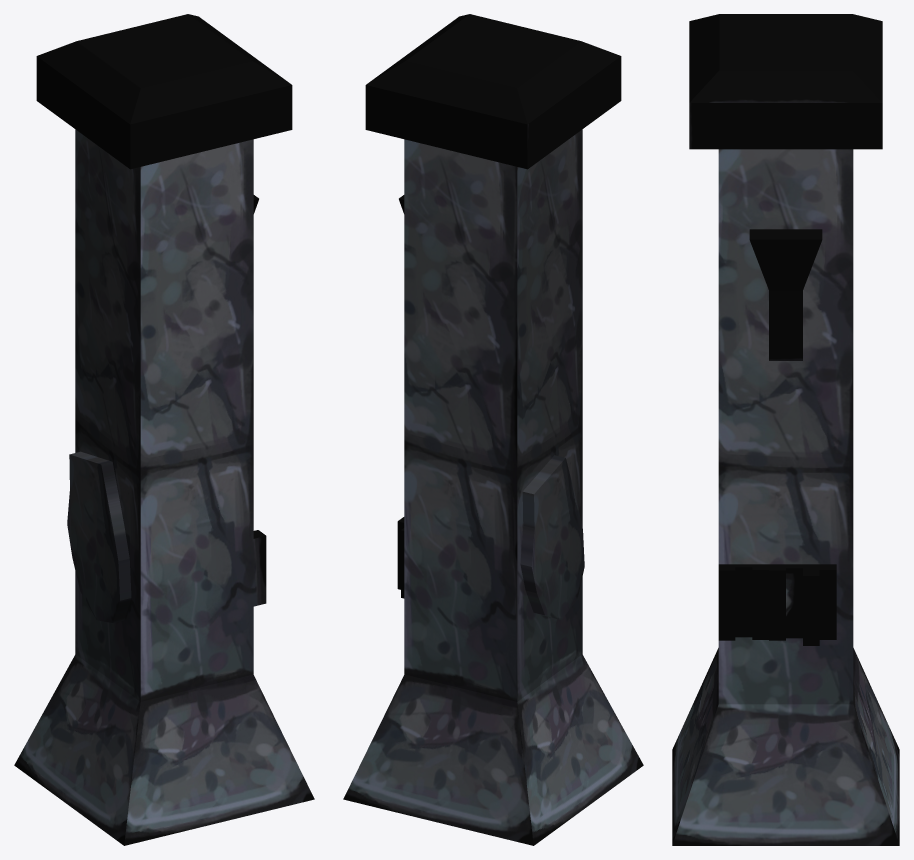
The model's file is pillar1.fbx.
The picture shows the model from 3 angles, left to right: view 1: azimuth 30°, elevation 25°; view 2: azimuth 150°, elevation 25°; view 3: azimuth 270°, elevation 25°; orthographic projection. The views are drawn at different scales.
Visible parts, largest first — view 1: Cube; view 2: Cube; view 3: Cube.
Boxes of the visible parts, x1=… form: Cube: x1=14, y1=14, x2=314, y2=845; Cube: x1=343, y1=14, x2=643, y2=845; Cube: x1=672, y1=14, x2=899, y2=845.
Size of the model in its own units: 88.14 by 323 by 88.14.
1 material, 1 textured.
